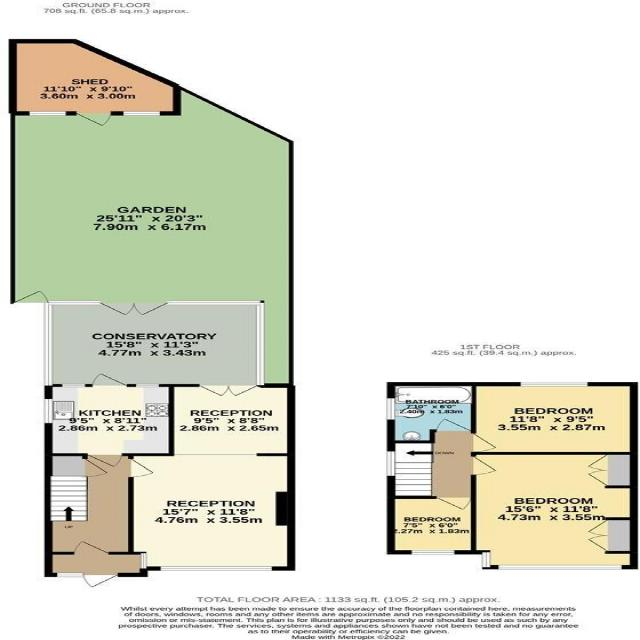DOOR: (435, 495, 472, 511), (86, 453, 124, 468), (470, 455, 498, 475), (127, 458, 155, 478), (470, 433, 498, 452), (435, 418, 472, 432), (91, 373, 128, 387)
DOUBLE DOOR: (193, 384, 264, 398)
ROOM: (128, 453, 296, 577), (470, 452, 638, 570), (44, 373, 174, 468), (470, 382, 638, 455), (386, 496, 477, 555)
WINDOW: (497, 564, 623, 570), (159, 566, 273, 571), (519, 381, 589, 387), (385, 450, 397, 477), (410, 549, 456, 555), (385, 398, 396, 420), (44, 398, 53, 424), (482, 551, 491, 568), (139, 553, 147, 569), (135, 384, 160, 388), (61, 384, 86, 387)
